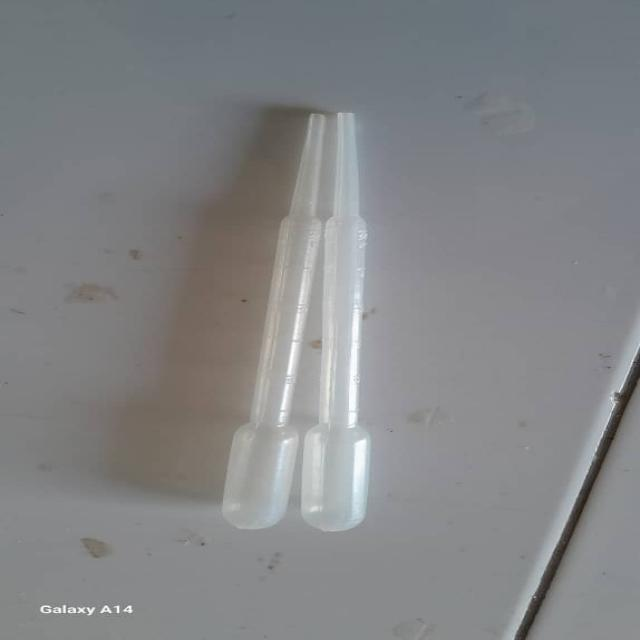Droppers: (212, 110, 376, 536)
